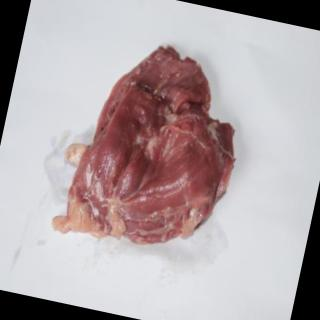Daging Sapi: (55, 30, 257, 265)
